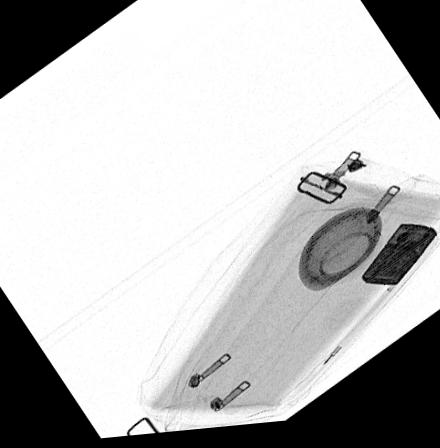Lighter: (359, 229, 436, 293)
